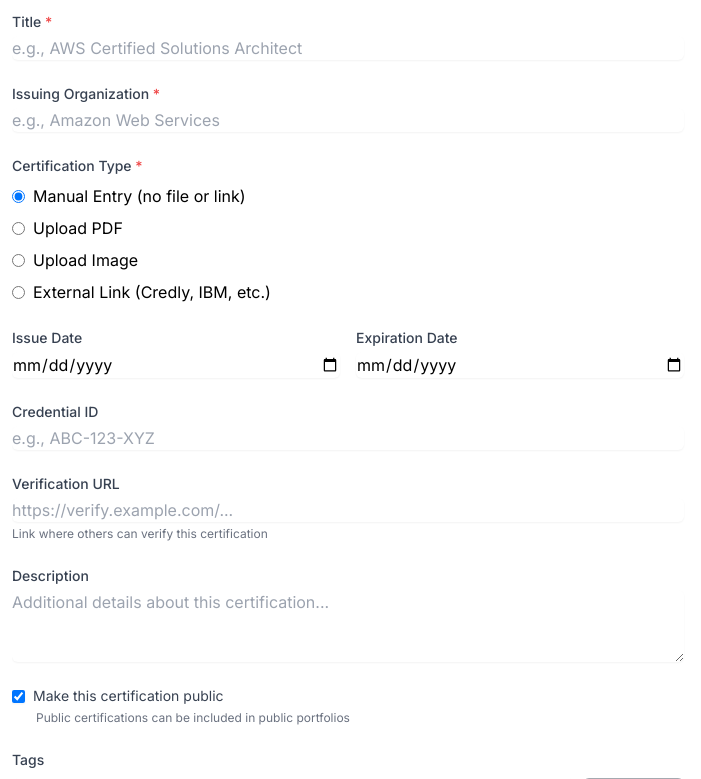
Test: CertificationForm › certification types › should show external URL field when external link type is selected
The width and height of the screenshot is (701, 779).
Click the radio button labelled "External Link (Credly, IBM, etc.)" at (18, 292), box 12,286 -> 25,298
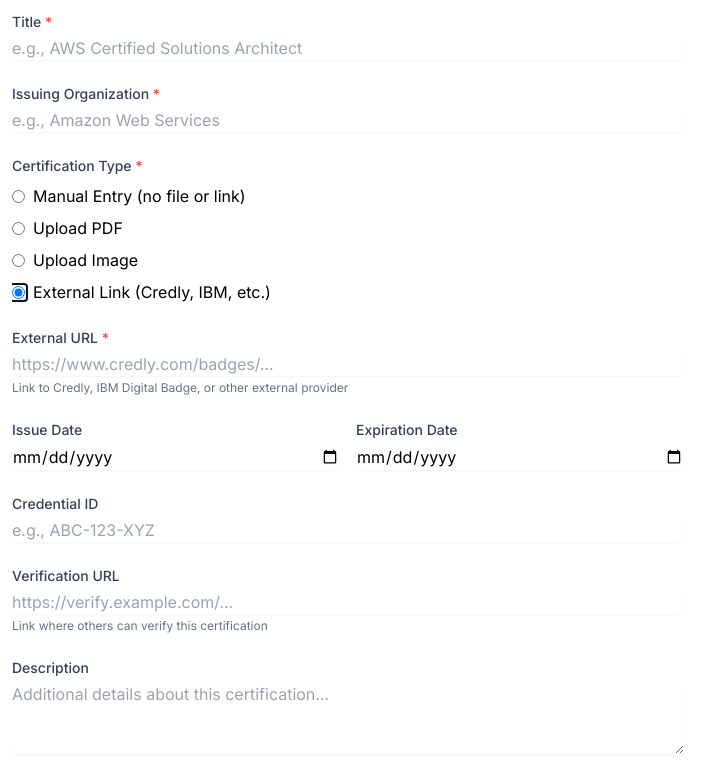
Expected: the field labelled "External URL *" is shown, 12,352 -> 684,376
